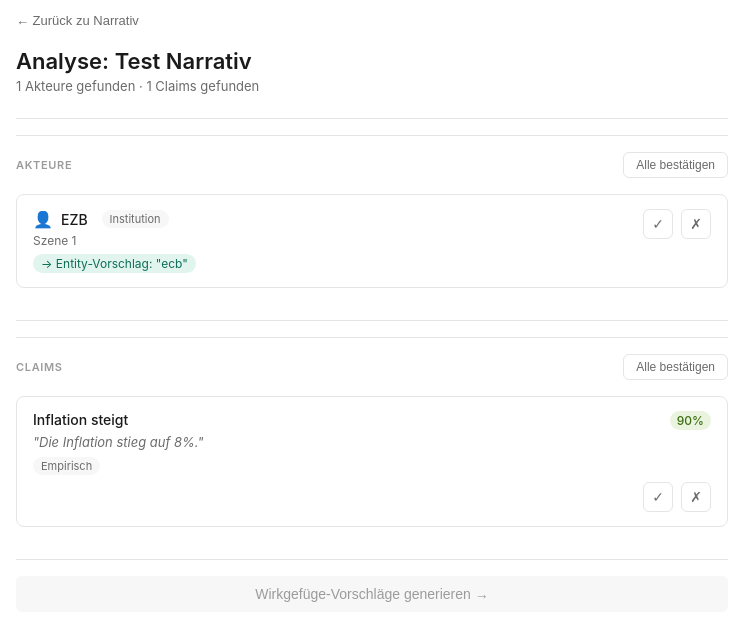
Test: NarrativeAnalyse › Wirkgefüge button becomes enabled after accepting a claim
Accept the claim (✓ button for claims section — the last ✓ since actors come first)
Step 1. Click the button "✓" below "90" → (658, 497), box x1=643 y1=482 x2=673 y2=512
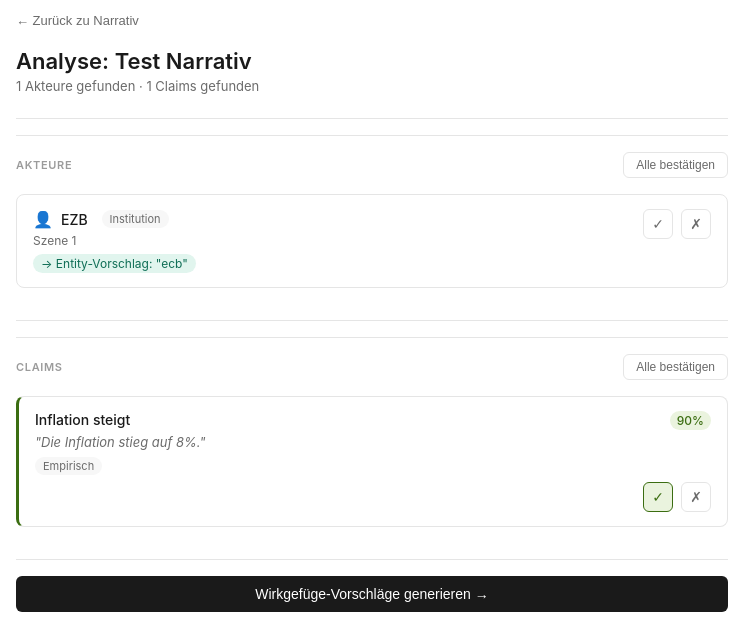
Expected: the button "Wirkgefüge-Vorschläge generieren →" is enabled, x1=16 y1=576 x2=728 y2=612
